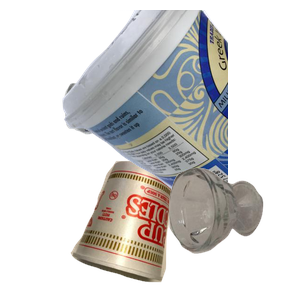glass: (166, 165, 300, 300)
metal: (61, 75, 231, 202)
plastic: (60, 10, 300, 190)
trash: (68, 158, 235, 300)
